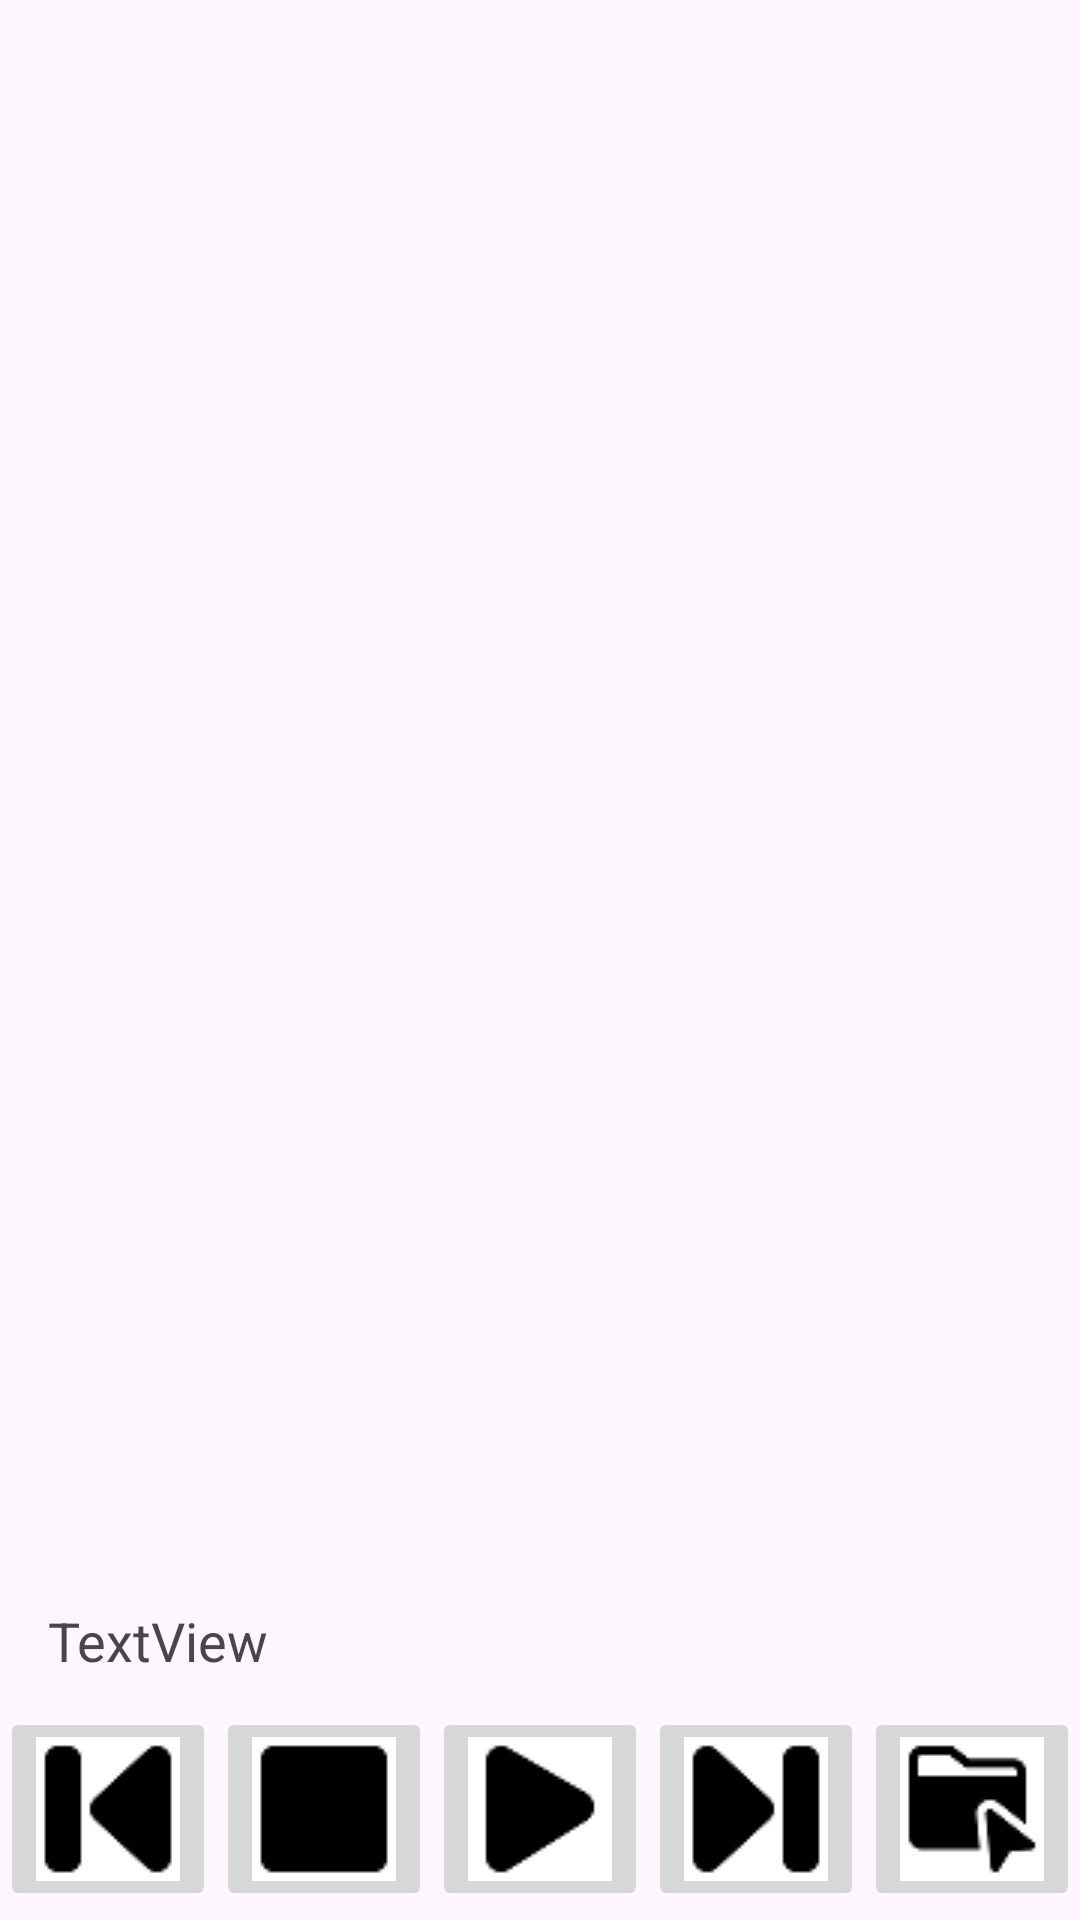

Named icons in this screenshot (1080px x 1920px) and their bounding boxes, (x1, y1, x2, y2):
back: (12, 1725, 204, 1893)
next: (660, 1725, 852, 1893)
play: (444, 1725, 636, 1893)
select: (876, 1725, 1068, 1893)
stop: (228, 1725, 420, 1893)
